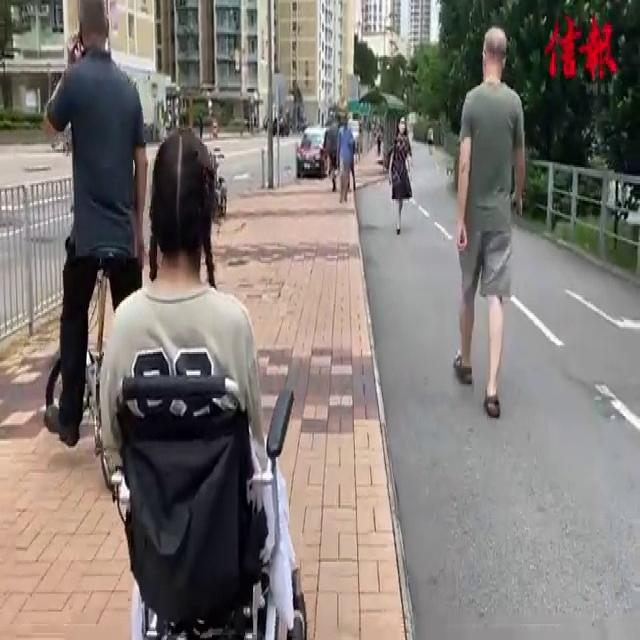wheelchairs: (90, 325, 314, 640)
